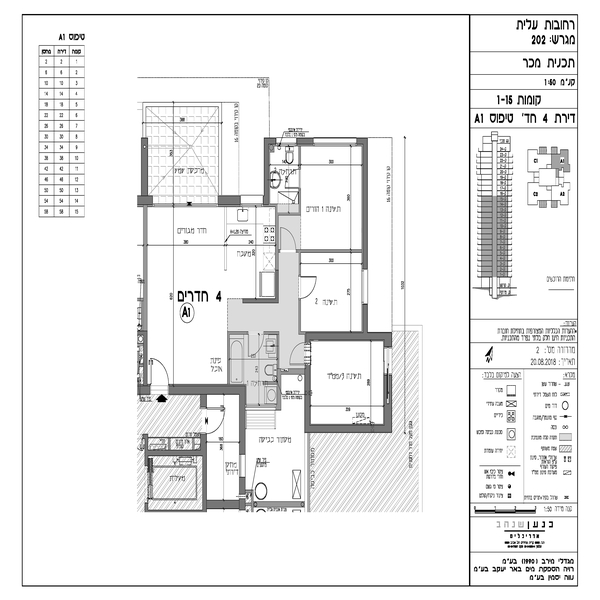door: (144, 345, 170, 388), (285, 339, 316, 372), (272, 218, 299, 252), (295, 278, 326, 304), (203, 408, 227, 436), (245, 334, 269, 360), (281, 165, 299, 194)
room: (134, 197, 285, 399), (263, 131, 378, 265), (299, 328, 401, 435)
wall: (134, 212, 151, 388), (357, 131, 373, 274), (305, 330, 402, 351), (305, 415, 406, 434), (167, 378, 248, 397), (233, 384, 253, 454), (299, 360, 318, 431), (380, 374, 399, 441), (259, 136, 275, 214), (141, 444, 207, 461), (197, 454, 209, 511), (303, 244, 359, 256), (202, 496, 242, 509)
window: (152, 194, 225, 217), (313, 136, 357, 154), (355, 270, 377, 305), (383, 345, 397, 377), (237, 453, 249, 475)
